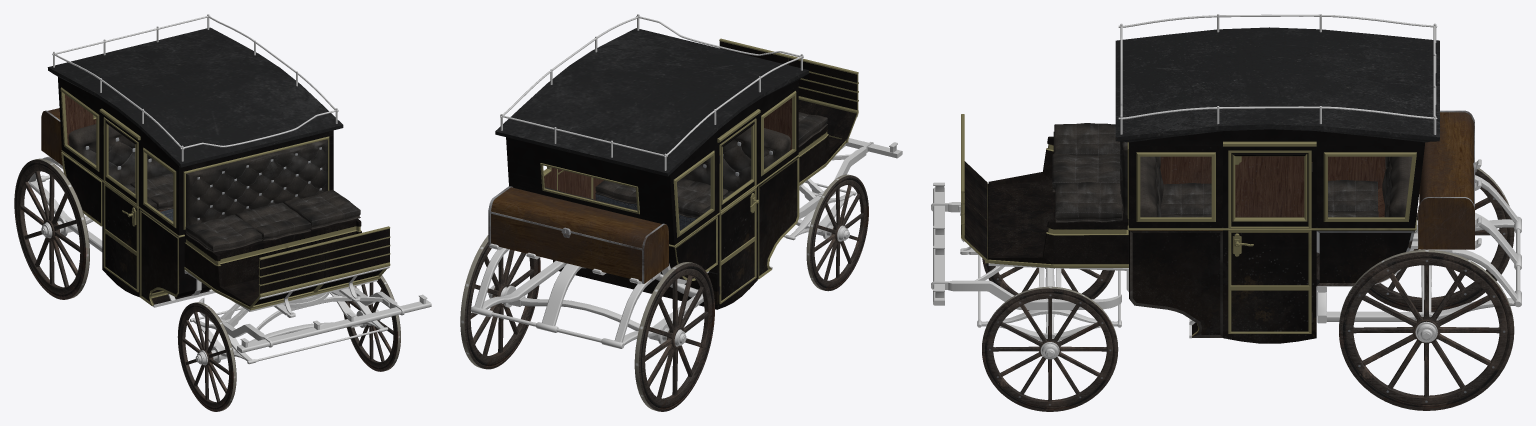
The model's file is Cariiage.fbx.
The picture shows the model from 3 angles, left to right: view 1: azimuth 30°, elevation 25°; view 2: azimuth 150°, elevation 25°; view 3: azimuth 270°, elevation 25°; orthographic projection. The views are drawn at different scales.
Visible parts, largest first — view 1: Metal; view 2: Metal; view 3: Metal.
Boxes of the visible parts, x1,y1,x2,y2 form: Metal: (14,14,431,411); Metal: (460,14,902,411); Metal: (931,14,1521,411).
Size of the model in its own units: 203 by 252 by 448.
